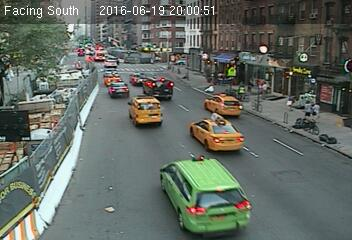neg: (276, 106, 295, 130), (177, 66, 193, 88), (251, 95, 266, 114), (204, 80, 216, 97)
pos: (309, 100, 326, 123), (300, 98, 315, 118)
